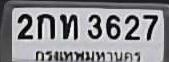2: (124, 14, 139, 39), (17, 13, 32, 38)
3: (87, 12, 101, 37)
6: (105, 14, 119, 38)
7: (142, 14, 157, 40)
A01: (36, 13, 54, 38)
A23: (59, 13, 77, 38)
BKK: (33, 48, 145, 62)
